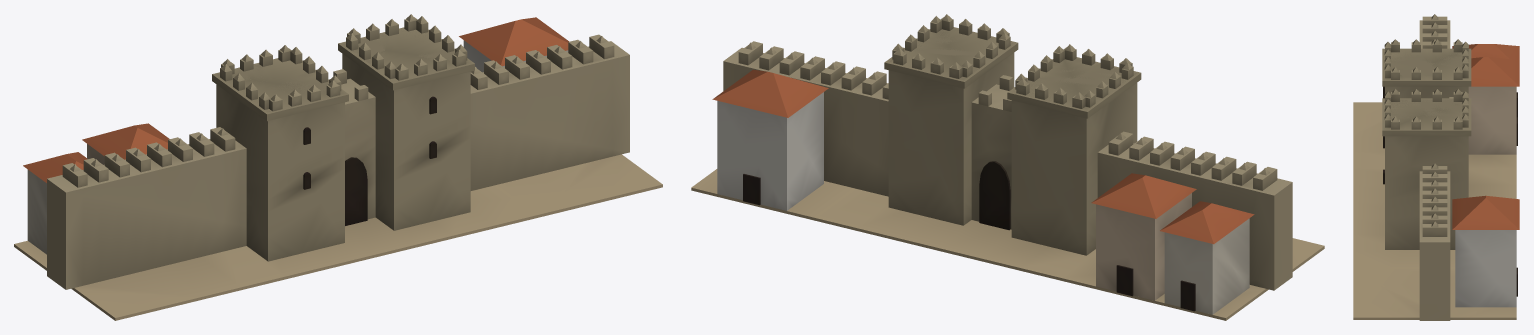
Rendered from porta-do-sol.glb.
The picture shows the model from 3 angles, left to right: view 1: azimuth 30°, elevation 25°; view 2: azimuth 150°, elevation 25°; view 3: azimuth 270°, elevation 25°; orthographic projection. The views are drawn at different scales.
Visible parts, largest first — view 1: p1_wall, p2_towers; view 2: p2_towers, p1_wall; view 3: p2_towers, p1_wall.
Part boxes in pixels (x1,y1,x2,y2): p1_wall: [14, 34, 662, 320]; p2_towers: [23, 14, 568, 261]; p2_towers: [712, 14, 1254, 314]; p1_wall: [691, 41, 1324, 320]; p2_towers: [1382, 39, 1519, 307]; p1_wall: [1353, 14, 1516, 320].
Bounding box in the file's own units: 51.5 × 14.56 × 16.3.
